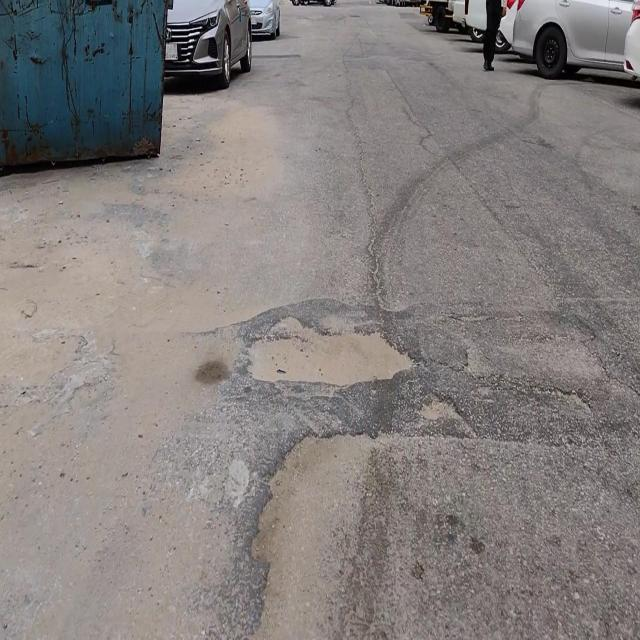Pothole: (248, 423, 388, 640), (247, 312, 420, 391)
